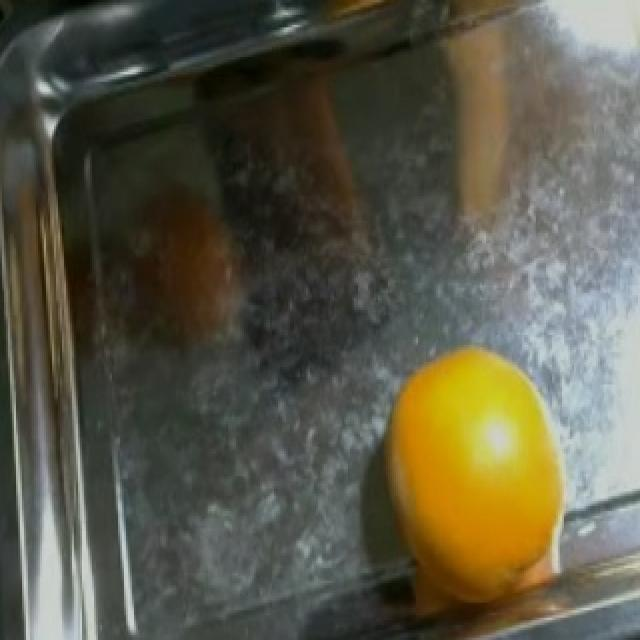Fruit: (356, 335, 590, 635)
